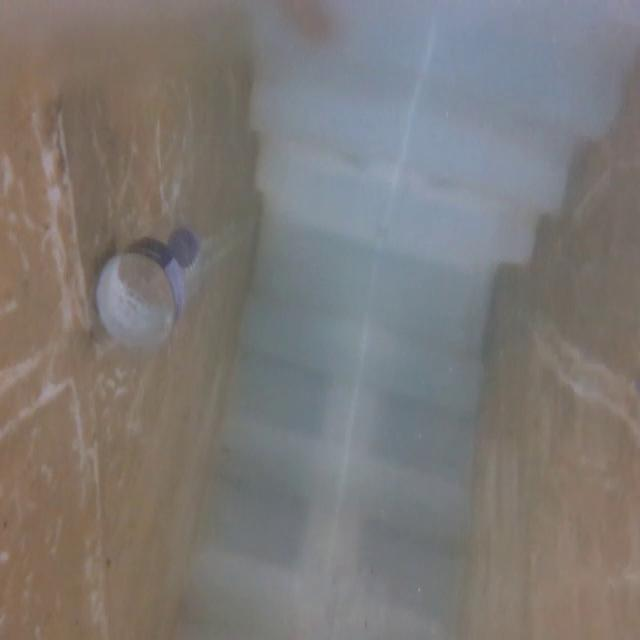plastic bottle: (82, 221, 211, 383)
